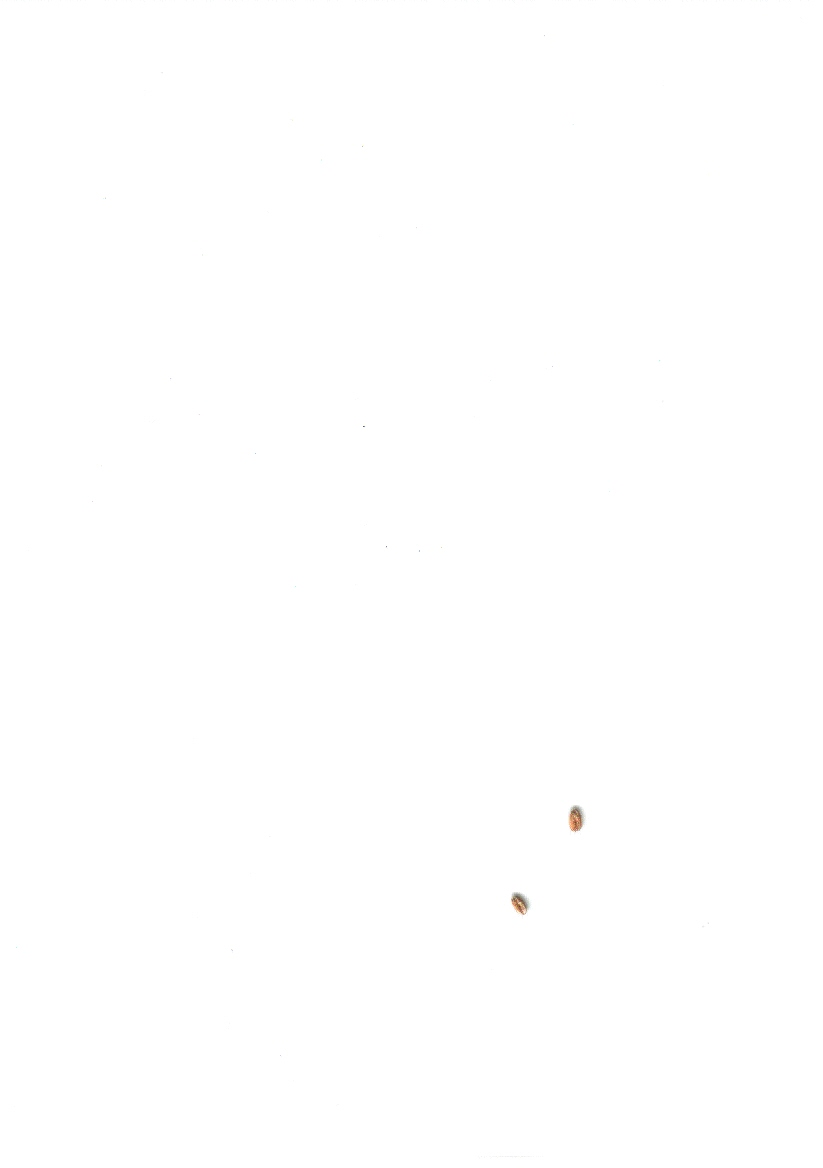grains: (562, 801, 597, 845), (506, 888, 538, 927)
